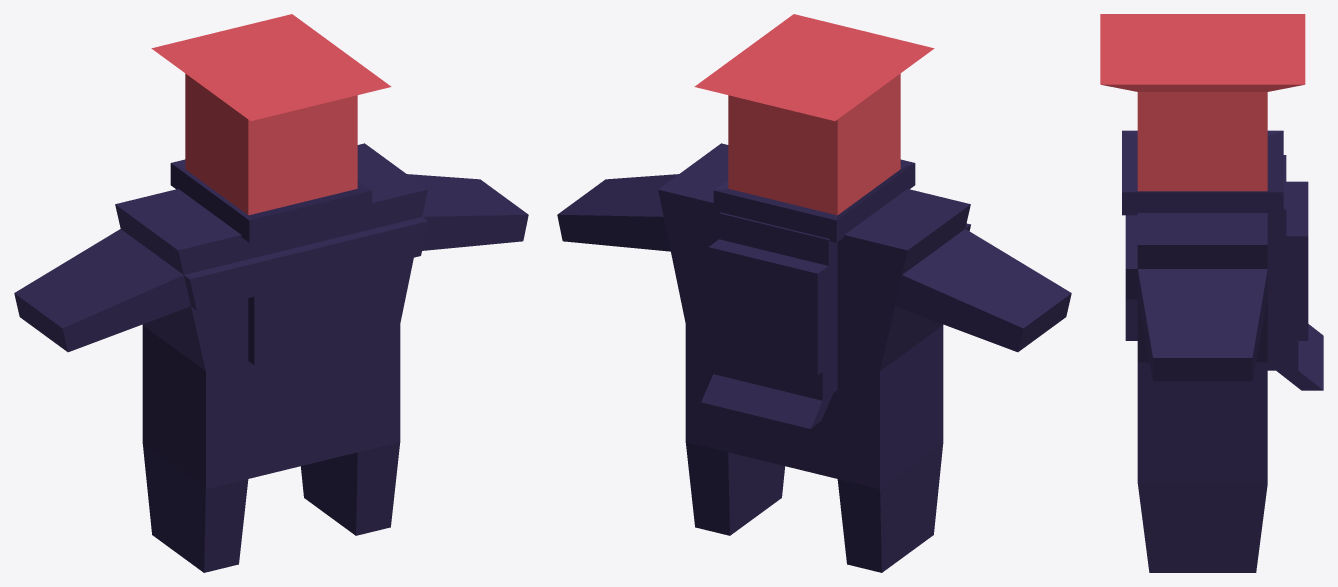
Rendered from Worker.gltf.
3 renders of one model, left to right at view 1: azimuth 30°, elevation 25°; view 2: azimuth 150°, elevation 25°; view 3: azimuth 270°, elevation 25°, orthographic. The views are drawn at different scales.
Parts seen in each view (by area): view 1: Cube; view 2: Cube; view 3: Cube.
Boxes of the visible parts, <box> form: Cube: <box>14,14,528,572</box>; Cube: <box>557,14,1071,572</box>; Cube: <box>1100,14,1323,572</box>.
Size of the model in its own units: 8.52 by 8.1 by 3.44.
